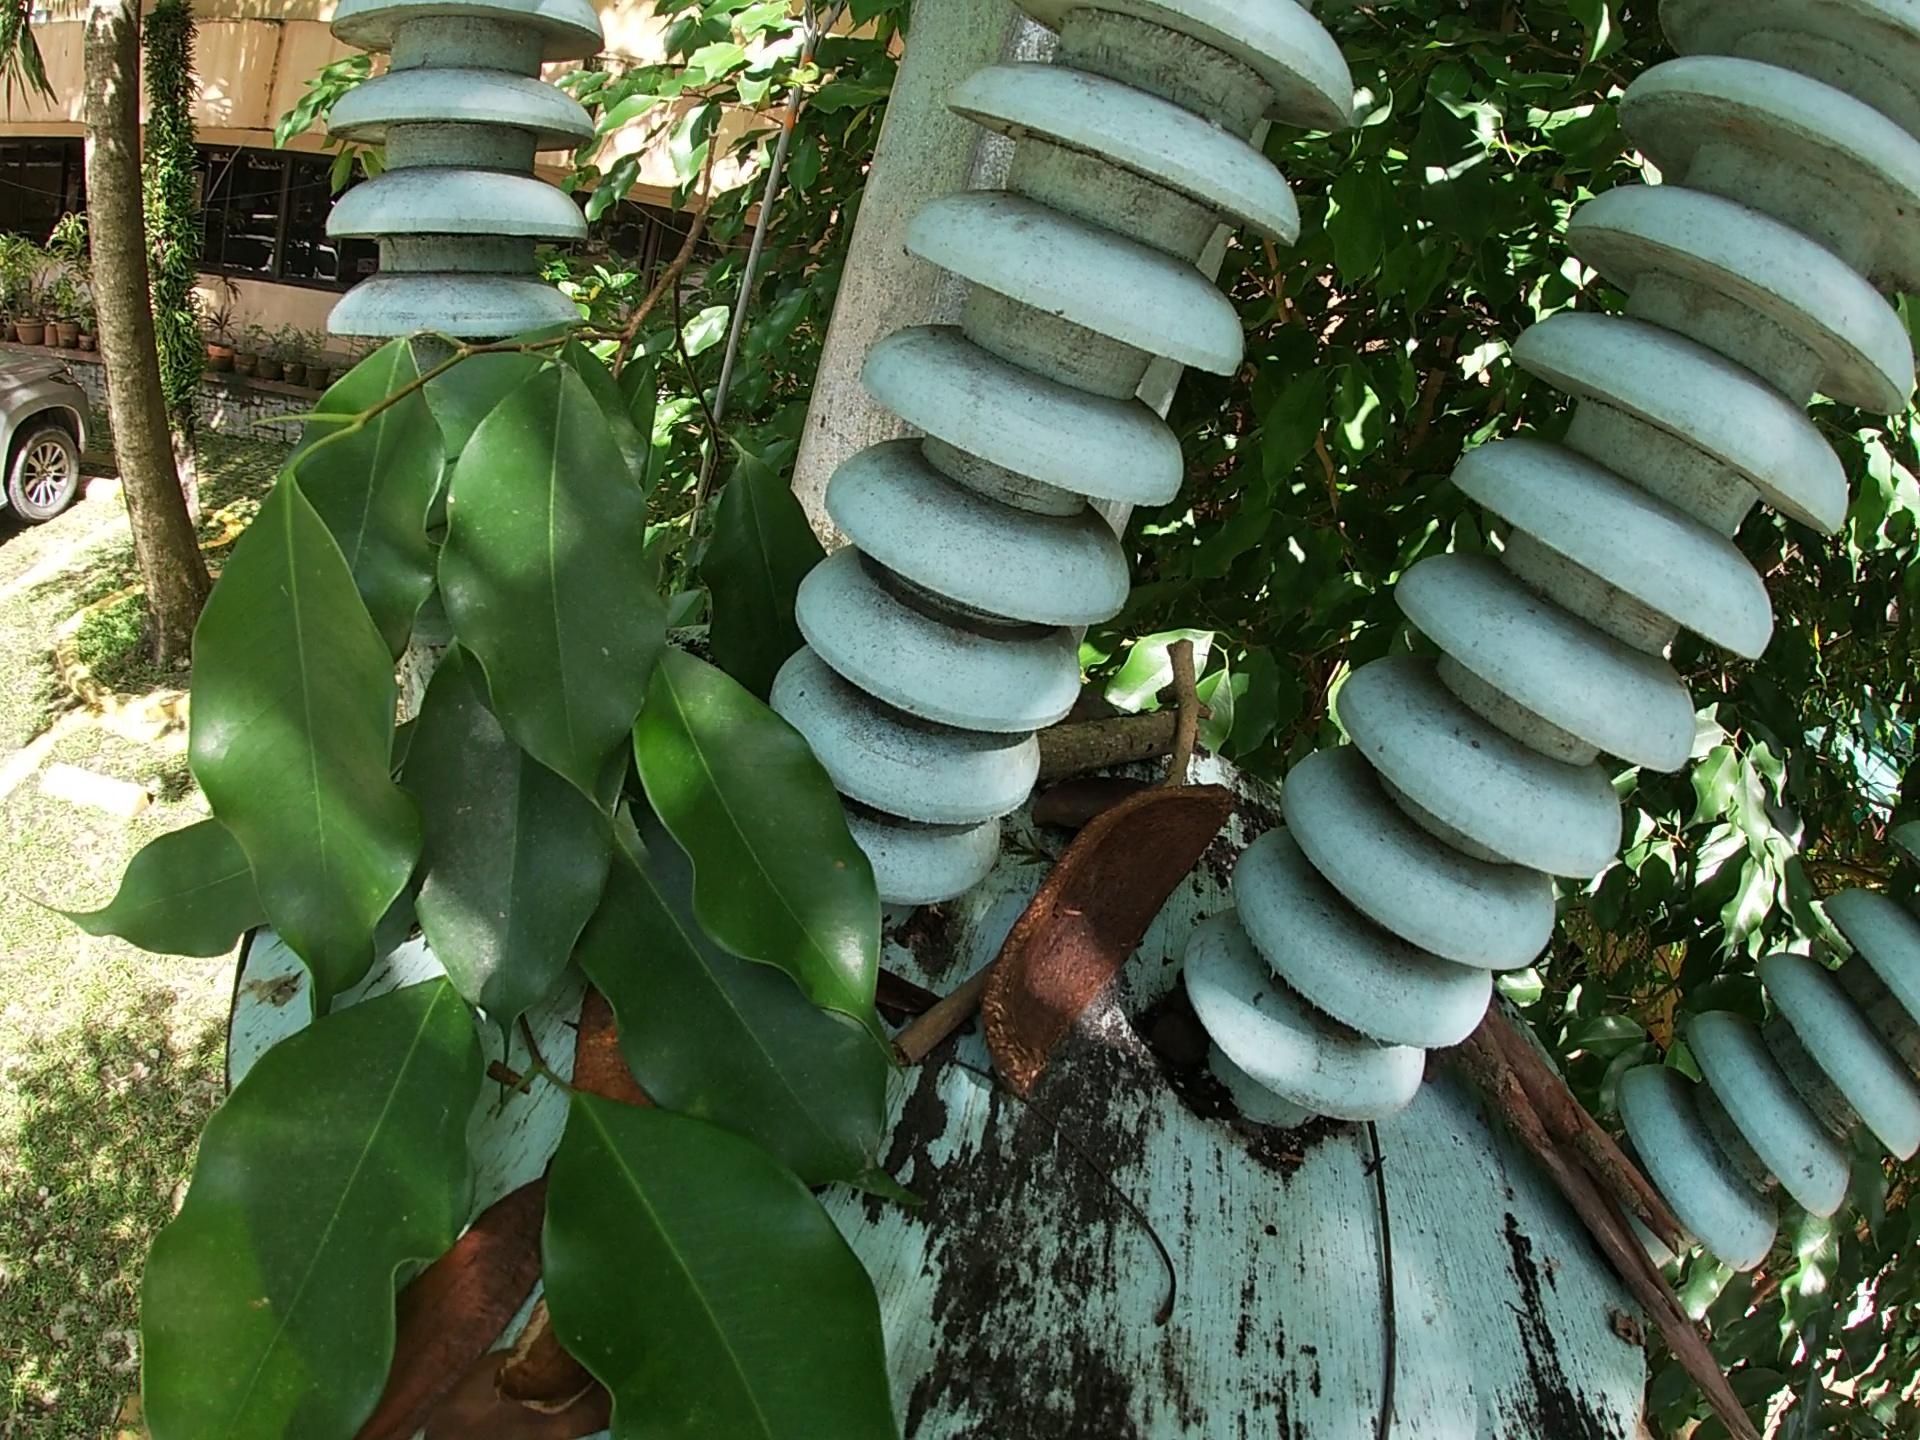branch with leaves: (2, 166, 955, 1432)
leaf: (544, 979, 652, 1125), (490, 1314, 614, 1438)
mahogany fruit: (942, 777, 1256, 1127), (364, 1181, 550, 1432)
tree branch: (1447, 974, 1808, 1437), (940, 1066, 1215, 1345), (1338, 1106, 1417, 1432), (1019, 706, 1188, 781), (1150, 625, 1217, 788), (887, 971, 980, 1088)
